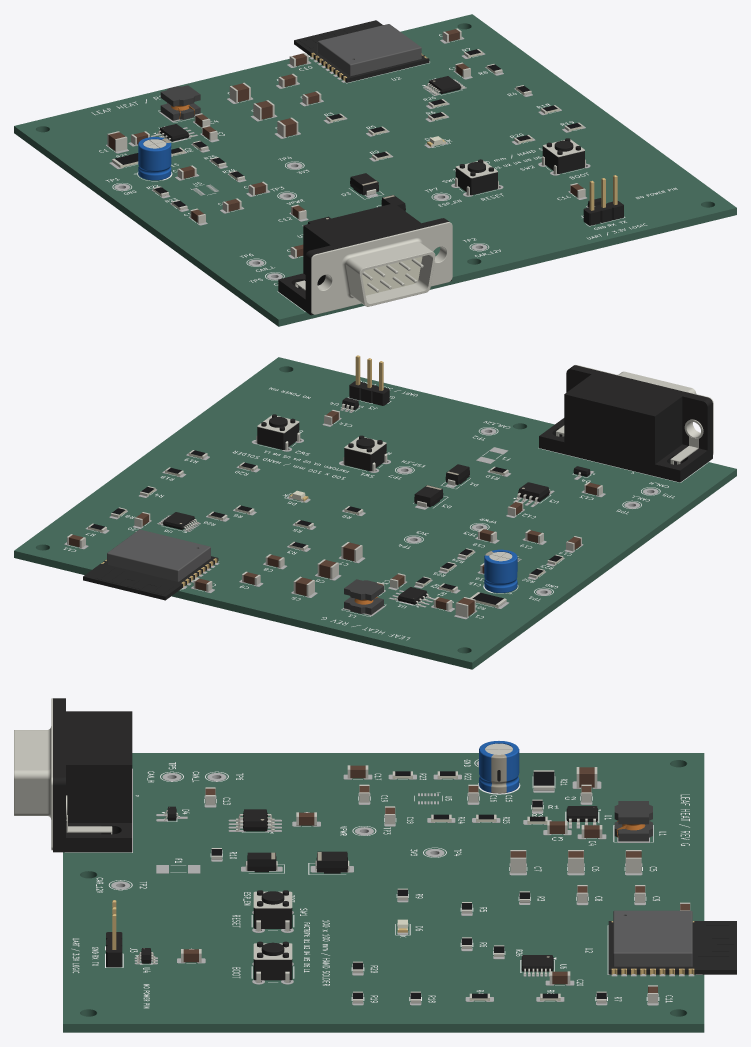
Rendered from leaf-heat-rev-g.glb.
3 views of the same model, one above another, from view 1: azimuth 30°, elevation 25°; view 2: azimuth 150°, elevation 25°; view 3: azimuth 270°, elevation 25° (orthographic). The views are drawn at different scales.
Visible parts, largest first — view 1: =>[0:1:1:41], =>[0:1:1:13], =>[0:1:1:7], =>[0:1:1:39], =>[0:1:1:38], =>[0:1:1:5] (×2), =>[0:1:1:15], =>[0:1:1:21], =>[0:1:1:35]; view 2: =>[0:1:1:41], =>[0:1:1:13], =>[0:1:1:7], =>[0:1:1:39], =>[0:1:1:38], =>[0:1:1:5] (×2), =>[0:1:1:15], =>[0:1:1:21], =>[0:1:1:35]; view 3: =>[0:1:1:41], =>[0:1:1:13], =>[0:1:1:7], =>[0:1:1:39], =>[0:1:1:38], =>[0:1:1:5] (×2), =>[0:1:1:15], =>[0:1:1:21], =>[0:1:1:35], =>[0:1:1:37], =>[0:1:1:17], =>[0:1:1:19] (+2 smaller).
Boxes of the visible parts, left/top/right/bottom form: =>[0:1:1:41]: left=14, top=14, right=736, bottom=326; =>[0:1:1:13]: left=278, top=203, right=452, bottom=315; =>[0:1:1:7]: left=294, top=20, right=429, bottom=82; =>[0:1:1:39]: left=91, top=34, right=677, bottom=311; =>[0:1:1:38]: left=106, top=37, right=590, bottom=279; =>[0:1:1:5] (×2): left=455, top=138, right=585, bottom=195; =>[0:1:1:15]: left=138, top=137, right=171, bottom=180; =>[0:1:1:21]: left=160, top=85, right=200, bottom=121; =>[0:1:1:35]: left=583, top=175, right=623, bottom=225; =>[0:1:1:41]: left=14, top=357, right=736, bottom=669; =>[0:1:1:13]: left=539, top=365, right=713, bottom=482; =>[0:1:1:7]: left=83, top=529, right=218, bottom=600; =>[0:1:1:39]: left=63, top=380, right=708, bottom=640; =>[0:1:1:38]: left=64, top=405, right=658, bottom=619; =>[0:1:1:5] (×2): left=256, top=414, right=387, bottom=471; =>[0:1:1:15]: left=484, top=549, right=517, bottom=592; =>[0:1:1:21]: left=344, top=579, right=383, bottom=615; =>[0:1:1:35]: left=349, top=355, right=389, bottom=405; =>[0:1:1:41]: left=63, top=753, right=704, bottom=1032; =>[0:1:1:13]: left=14, top=698, right=132, bottom=852; =>[0:1:1:7]: left=608, top=910, right=736, bottom=974; =>[0:1:1:39]: left=65, top=759, right=702, bottom=1008; =>[0:1:1:38]: left=111, top=761, right=694, bottom=1005; =>[0:1:1:5] (×2): left=253, top=890, right=292, bottom=982; =>[0:1:1:15]: left=479, top=741, right=519, bottom=793; =>[0:1:1:21]: left=614, top=801, right=652, bottom=841; =>[0:1:1:35]: left=106, top=900, right=122, bottom=967; =>[0:1:1:37]: left=236, top=809, right=274, bottom=831; =>[0:1:1:17]: left=315, top=851, right=349, bottom=873; =>[0:1:1:19]: left=245, top=852, right=277, bottom=872.
Size of the model in its own units: 0.1 by 0.0179 by 0.1127.
